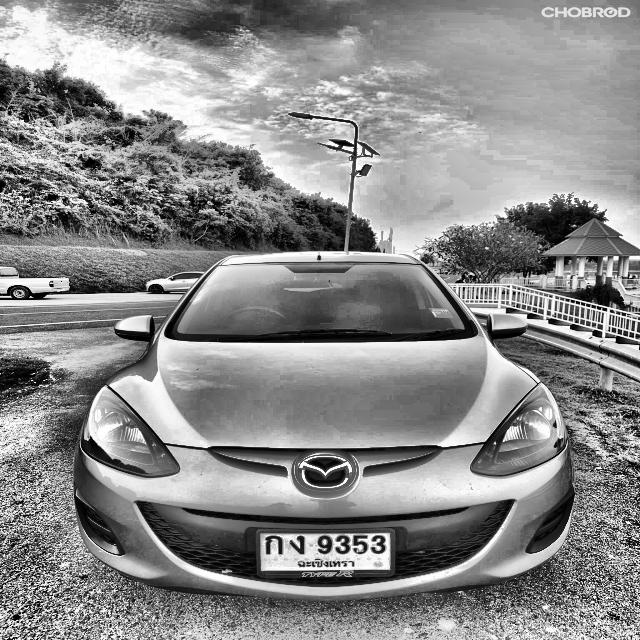license-plate: (251, 527, 400, 579)
